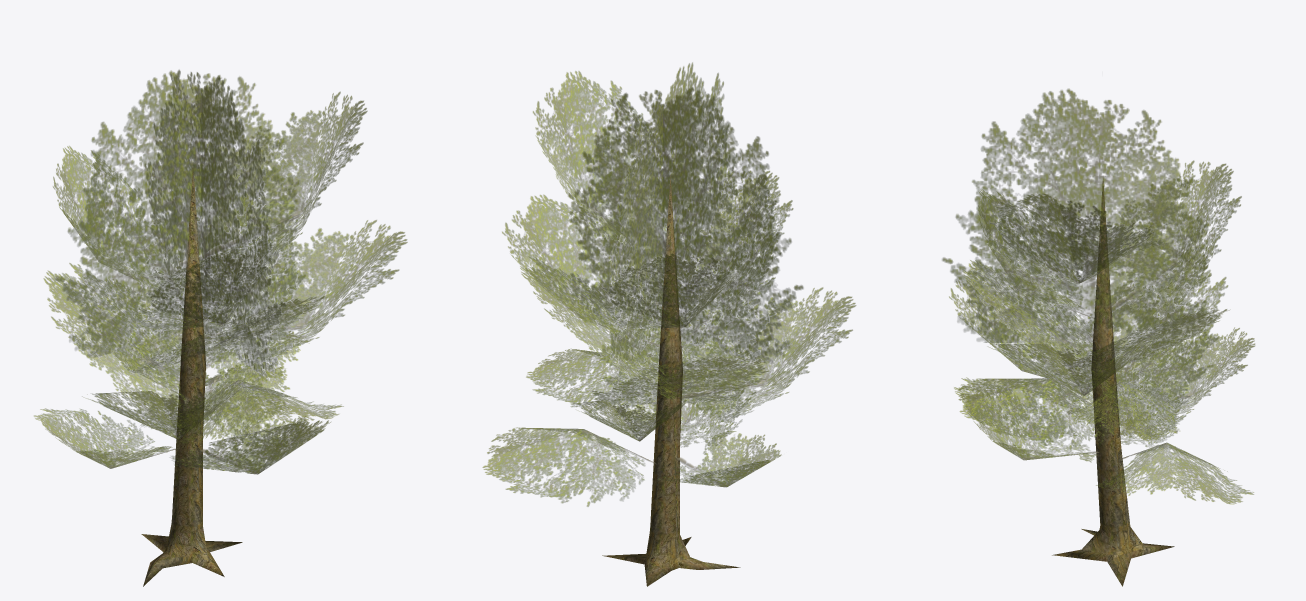
File: tree1.glb
3 renders of one model, left to right at view 1: azimuth 30°, elevation 25°; view 2: azimuth 150°, elevation 25°; view 3: azimuth 270°, elevation 25°, orthographic. The views are drawn at different scales.
Parts seen in each view (by area): view 1: Tree; view 2: Tree; view 3: Tree.
Boxes of the visible parts, left/top/right/bottom form: Tree: left=34, top=69, right=407, bottom=586; Tree: left=482, top=62, right=856, bottom=586; Tree: left=942, top=88, right=1254, bottom=586.
Bounding box in the file's own units: 15.56 × 19.89 × 14.08.
2 materials, 2 textured.
